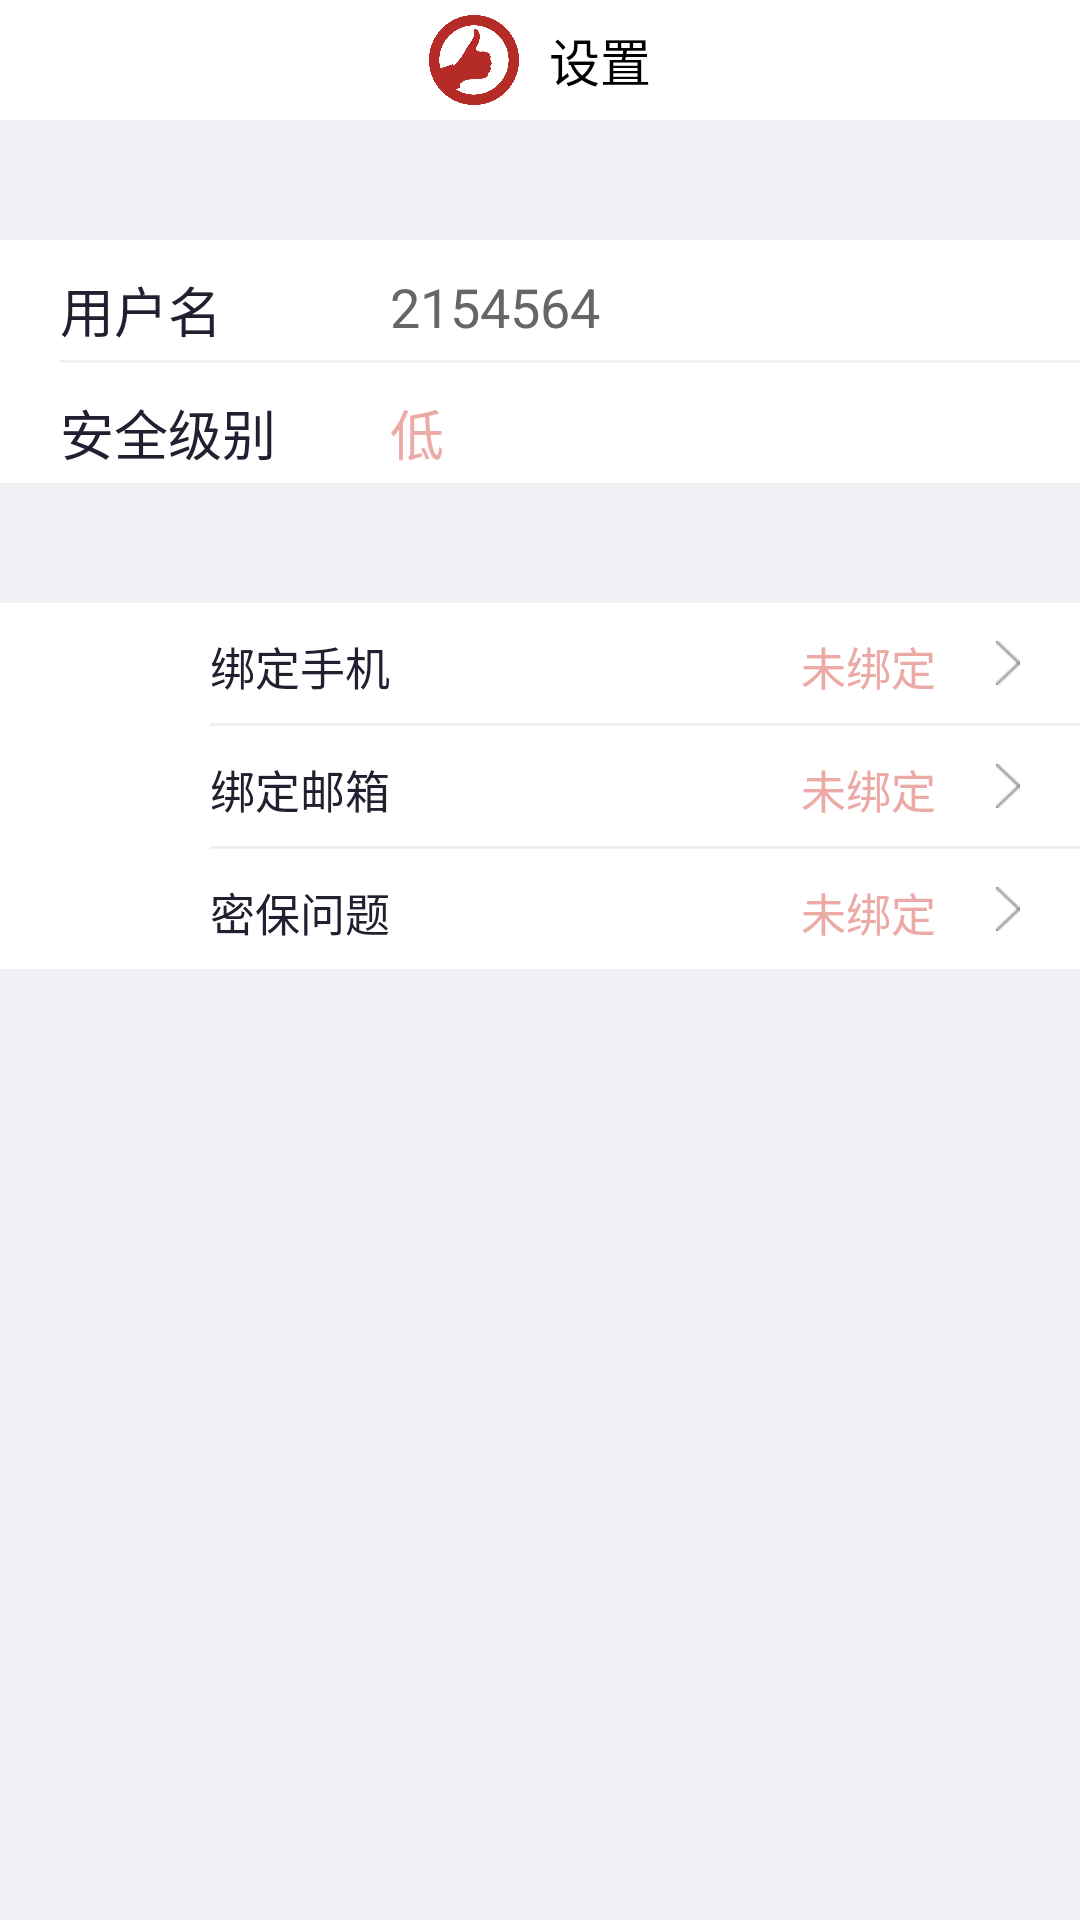

Icon click points for this 1080px×1920px phone screenshot, format [x,y]:
arrow right: [1008,663], [1008,786], [1008,909]
